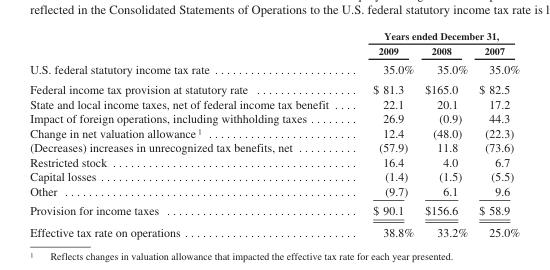table: (29, 29, 519, 238)
table column: (29, 29, 350, 238), (350, 29, 418, 238), (418, 29, 472, 238), (472, 29, 519, 238)
table column header: (29, 29, 519, 59)
table row: (29, 200, 519, 221), (29, 59, 519, 79), (29, 42, 519, 59), (29, 79, 519, 96), (29, 183, 519, 200), (29, 221, 519, 238), (29, 110, 519, 125), (29, 139, 519, 154), (29, 168, 519, 183), (29, 96, 519, 110), (29, 125, 519, 139), (29, 154, 519, 168), (29, 29, 519, 42)
table spanning cell: (350, 29, 519, 42)
